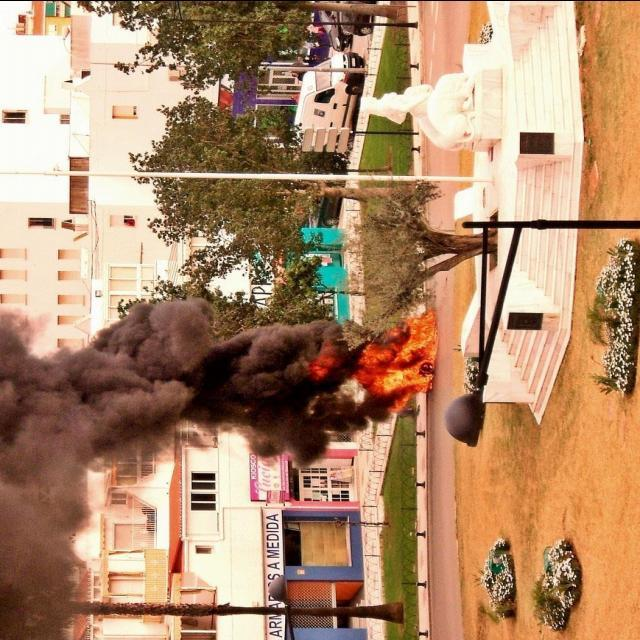Fire: (354, 307, 436, 427), (298, 333, 340, 385)
